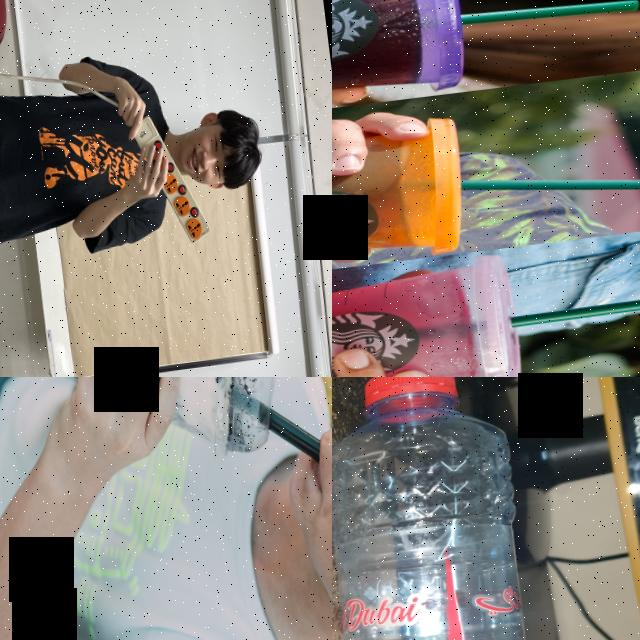bottle: (332, 377, 563, 640)
cup: (9, 377, 294, 482), (332, 112, 472, 290), (332, 251, 522, 377), (332, 0, 469, 126)
